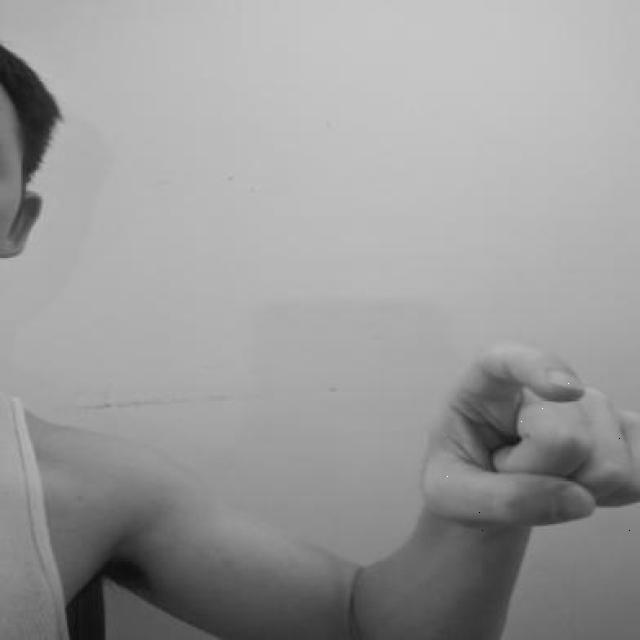Z: (412, 338, 638, 539)
